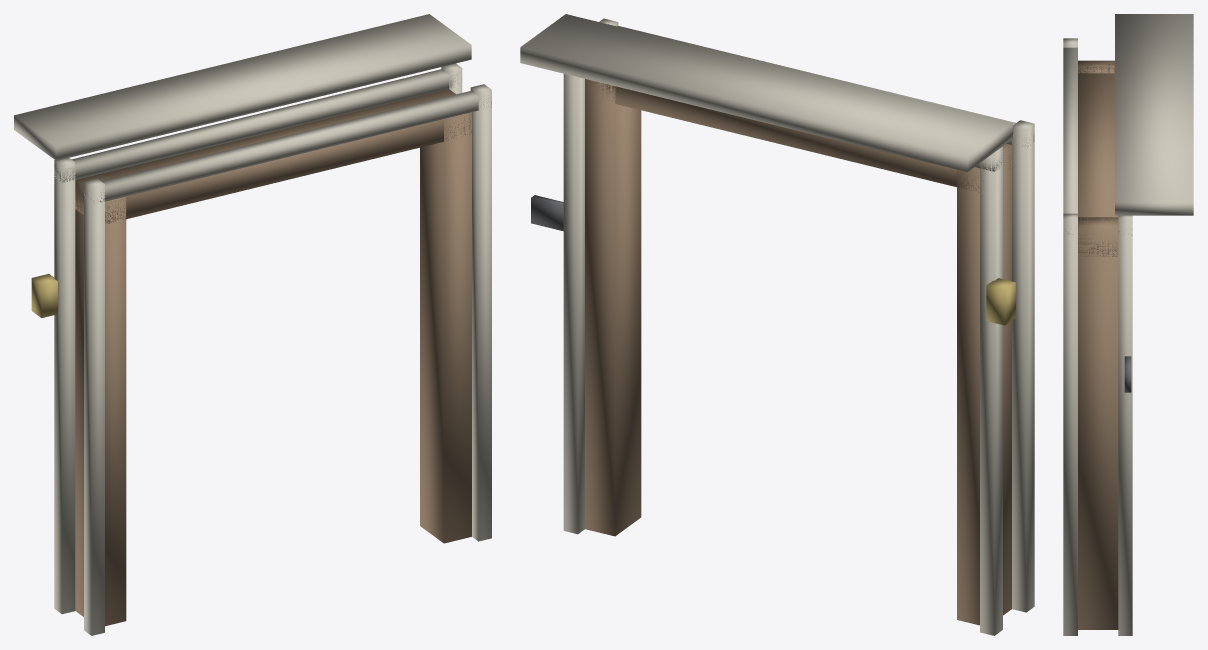
The model's file is doorway_motel_w182_h220_d24.glb.
3 views of the same model, side by side, from view 1: azimuth 30°, elevation 25°; view 2: azimuth 150°, elevation 25°; view 3: azimuth 270°, elevation 25° (orthographic). The views are drawn at different scales.
Parts seen in each view (by area): view 1: world; view 2: world; view 3: world.
Part boxes in pixels (bbox=[...]): world: bbox=[14, 14, 491, 635]; world: bbox=[520, 14, 1034, 635]; world: bbox=[1063, 14, 1193, 635].
Size of the model in its own units: 2.57 by 2.58 by 0.6953.
